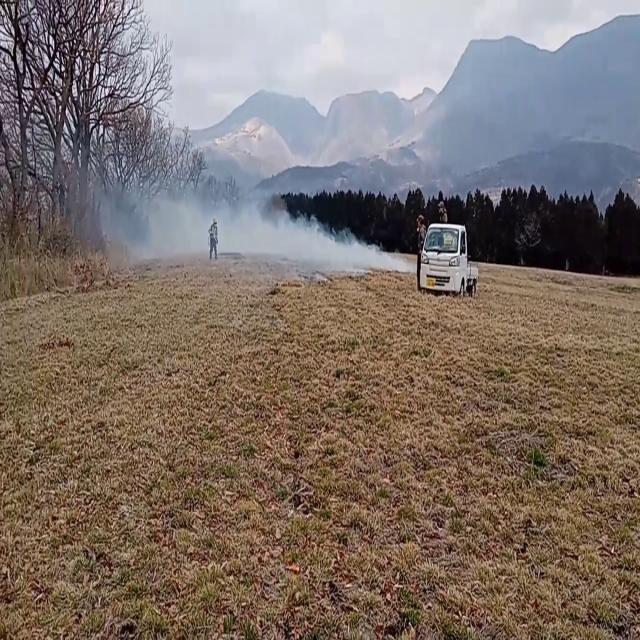Smoke: (96, 146, 374, 278)
